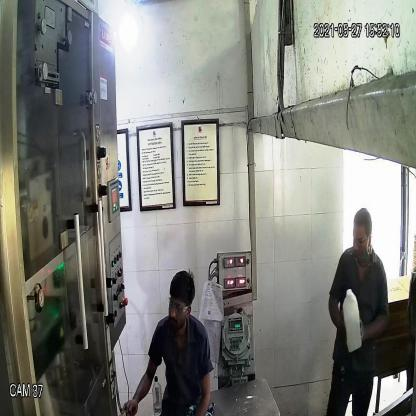goggles: (166, 293, 192, 315)
